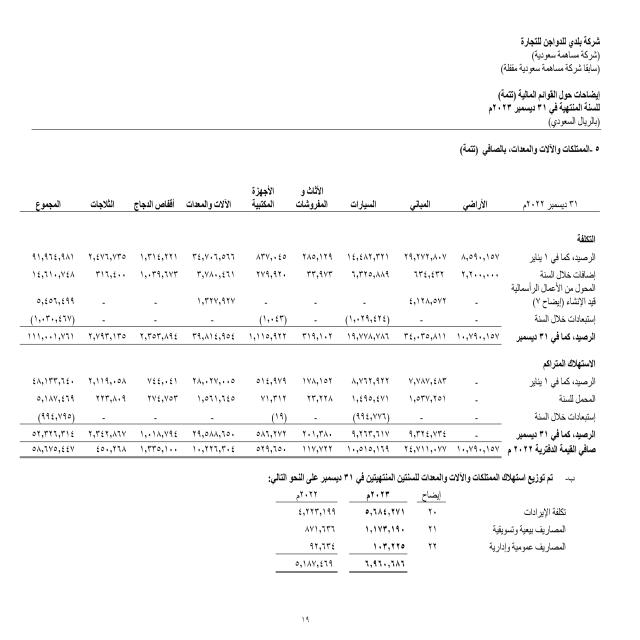notes: (491, 84, 598, 100)
table: (9, 181, 612, 468), (247, 486, 577, 584)
